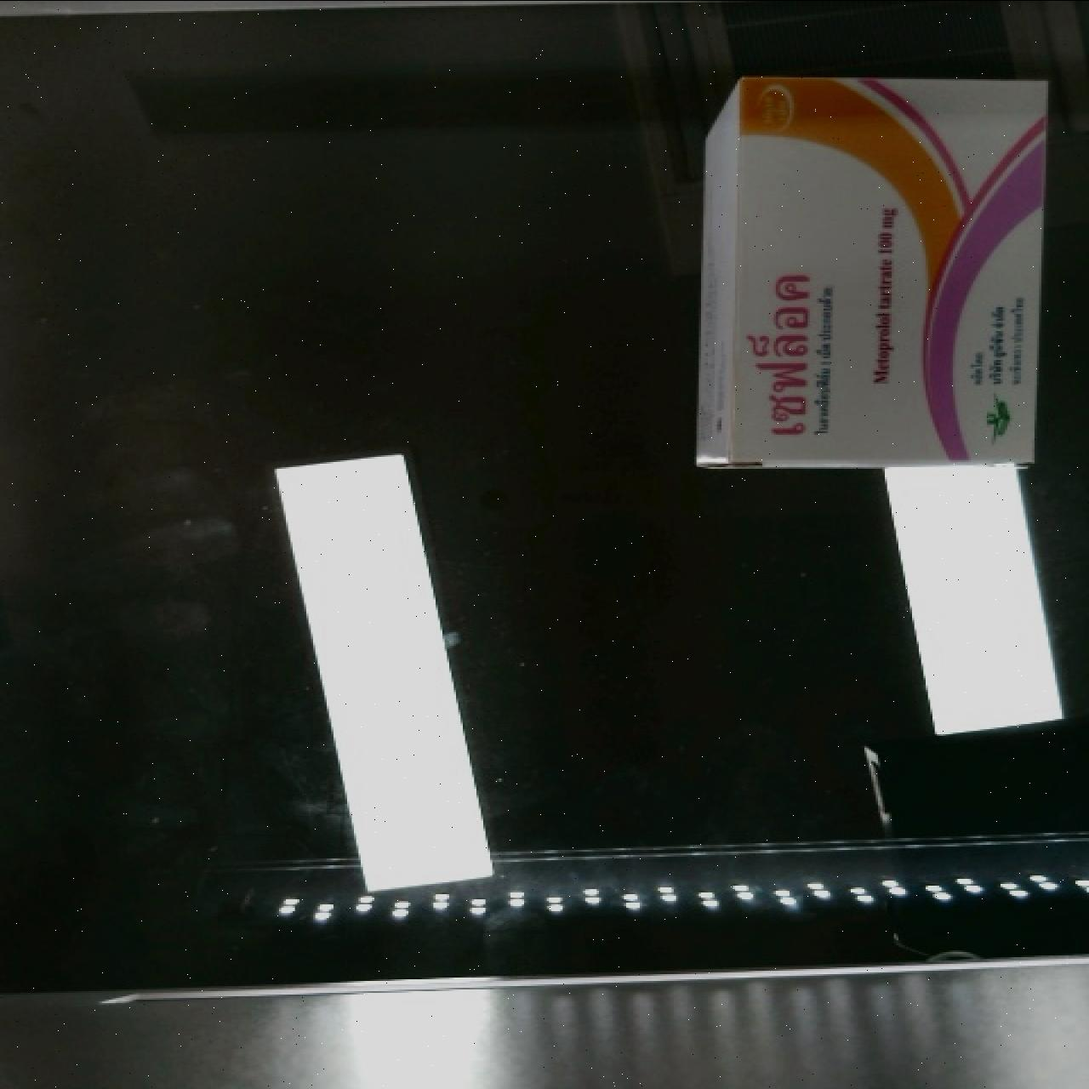medicine_label_obb: (733, 249, 820, 467)
